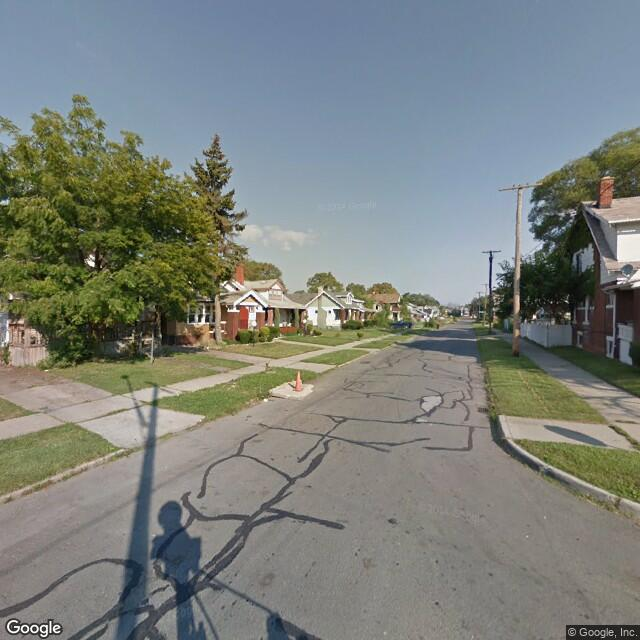litter: (258, 390, 273, 405)
